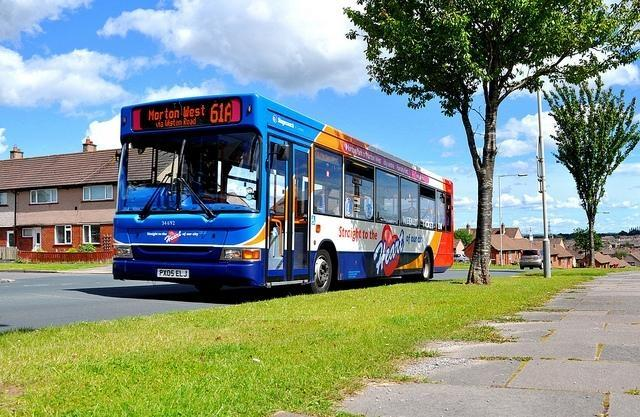bus: (112, 93, 454, 294)
car: (520, 249, 553, 270), (454, 252, 469, 264)
